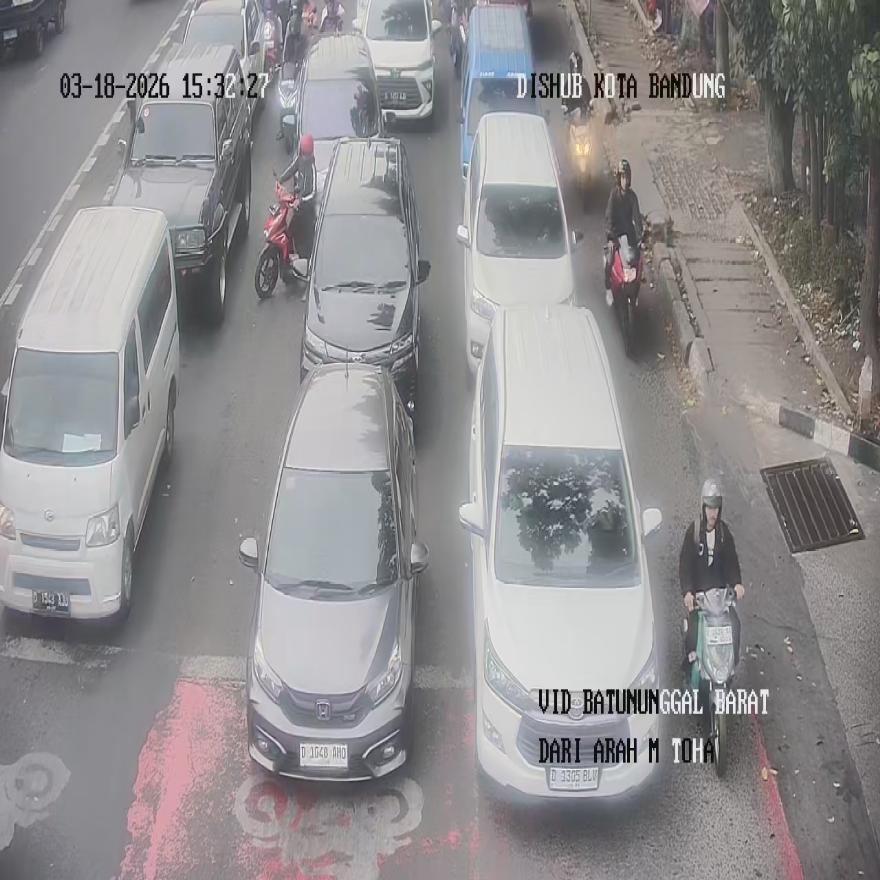Motor: (458, 304, 664, 803), (239, 362, 429, 781), (0, 206, 179, 619), (110, 44, 252, 324), (298, 136, 430, 416), (457, 112, 584, 376), (296, 28, 384, 207), (459, 2, 539, 178), (180, 0, 268, 132), (352, 0, 441, 123)
Truk: (683, 586, 739, 778), (253, 169, 310, 297), (604, 232, 641, 358), (566, 110, 592, 211), (276, 62, 302, 154), (262, 16, 281, 77), (320, 0, 344, 33), (301, 0, 318, 38)
